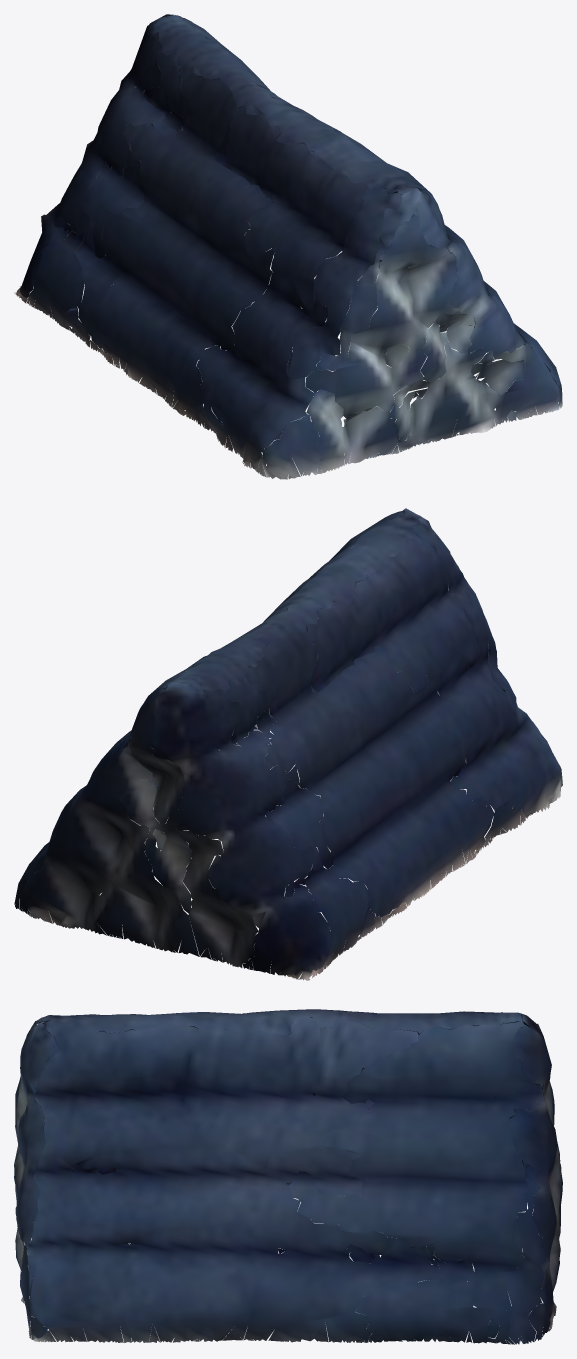
File: pillow.fbx
The picture shows the model from 3 angles, top to bottom: view 1: azimuth 30°, elevation 25°; view 2: azimuth 150°, elevation 25°; view 3: azimuth 270°, elevation 25°; orthographic projection.
Parts seen in each view (by area): view 1: mesh; view 2: mesh; view 3: mesh.
Part boxes in pixels (bbox=[...]): mesh: bbox=[14, 14, 562, 479]; mesh: bbox=[14, 508, 562, 980]; mesh: bbox=[14, 1009, 562, 1344].
Bounding box in the file's own units: 0.2601 × 0.2032 × 0.4.
